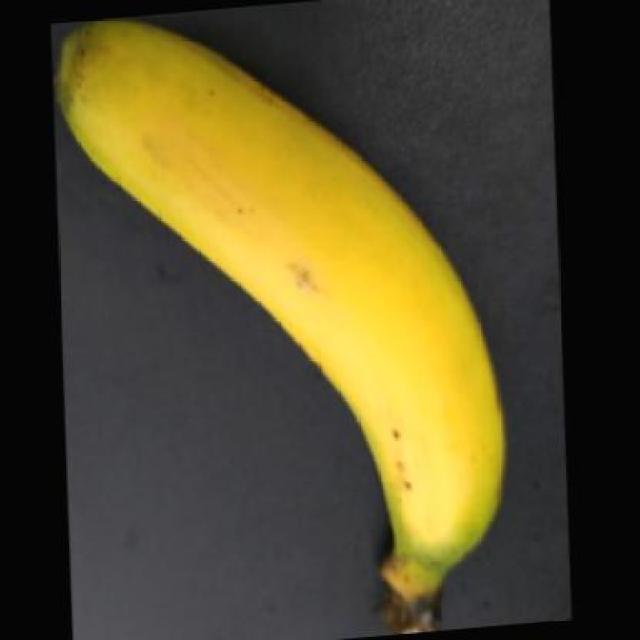Ripe: (48, 1, 520, 632)
